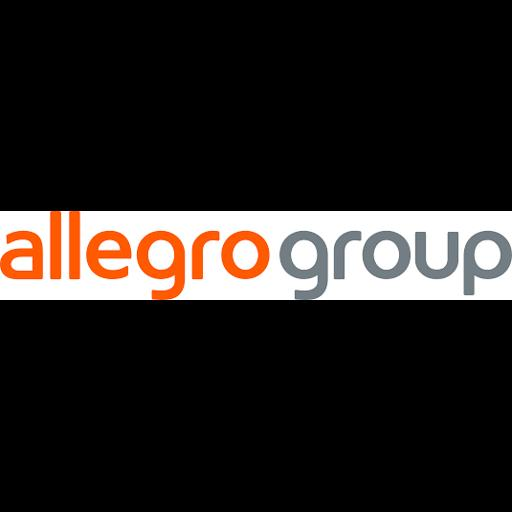Allegro: (0, 211, 512, 300)
